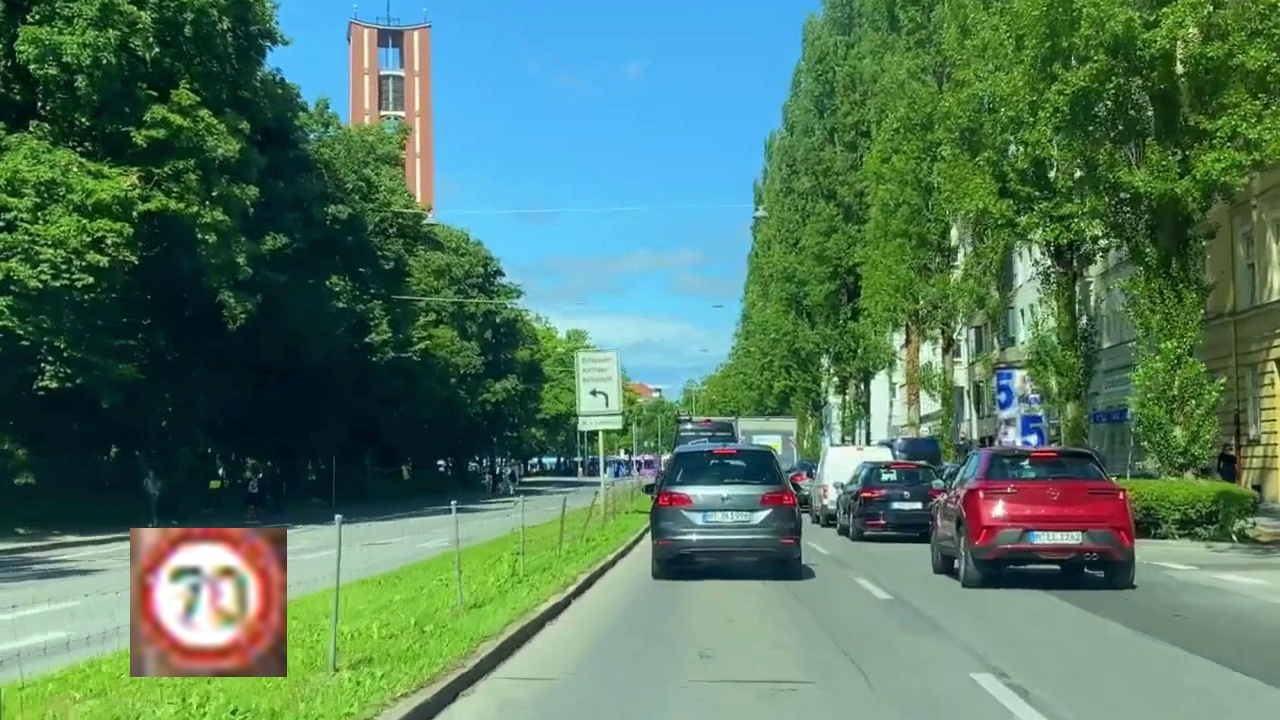Speed 70: (130, 528, 287, 677)
